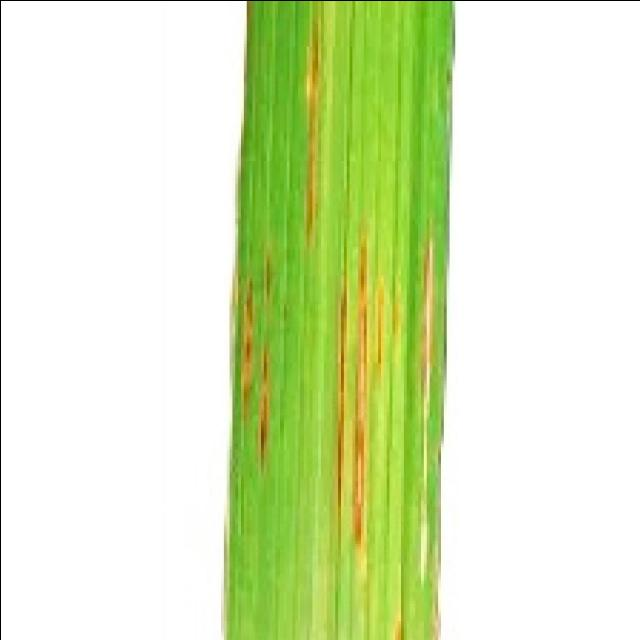Unhealthy: (409, 243, 437, 597), (349, 222, 369, 566), (331, 266, 349, 511), (306, 24, 324, 243), (254, 346, 274, 463), (237, 289, 253, 423), (373, 281, 388, 372), (260, 249, 274, 303), (393, 286, 405, 340)
